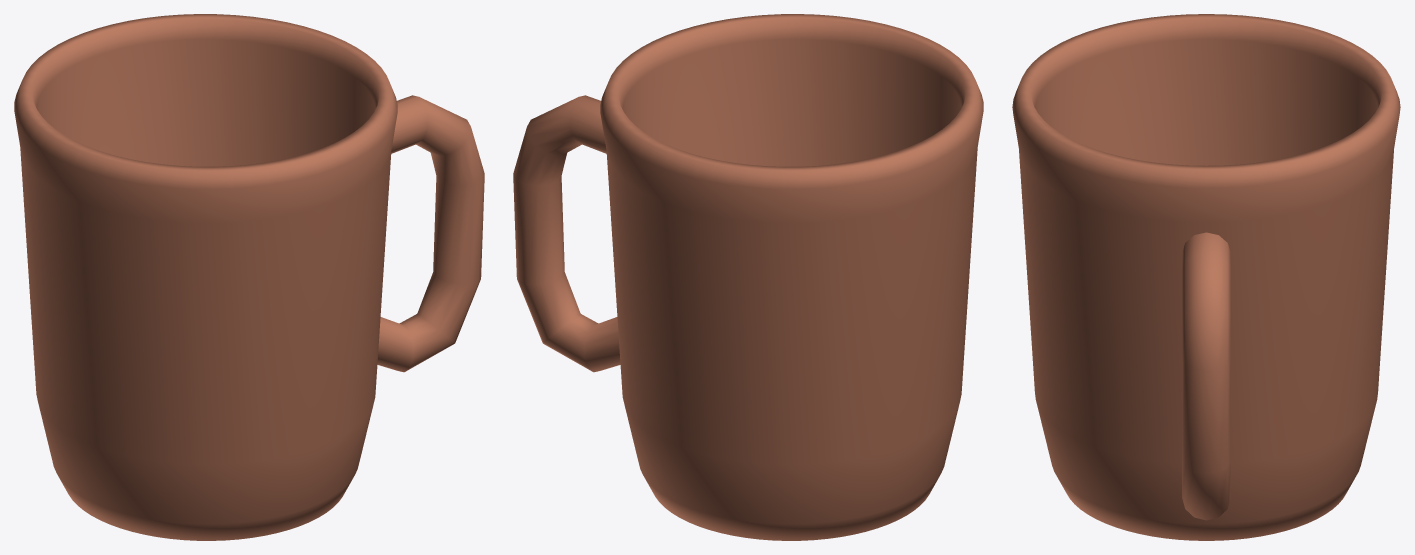
The model's file is kitchen-everyday-mug.glb.
3 views of the same model, side by side, from view 1: azimuth 30°, elevation 25°; view 2: azimuth 150°, elevation 25°; view 3: azimuth 270°, elevation 25° (orthographic).
Parts seen in each view (by area): view 1: kitchen-everyday-mug authored assembly; view 2: kitchen-everyday-mug authored assembly; view 3: kitchen-everyday-mug authored assembly.
Part boxes in pixels (box(x1,y1,x2,y2)): kitchen-everyday-mug authored assembly: box(14, 14, 484, 540); kitchen-everyday-mug authored assembly: box(513, 14, 983, 540); kitchen-everyday-mug authored assembly: box(1012, 14, 1400, 540).
Bounding box in the file's own units: 0.125 × 0.105 × 0.095.
